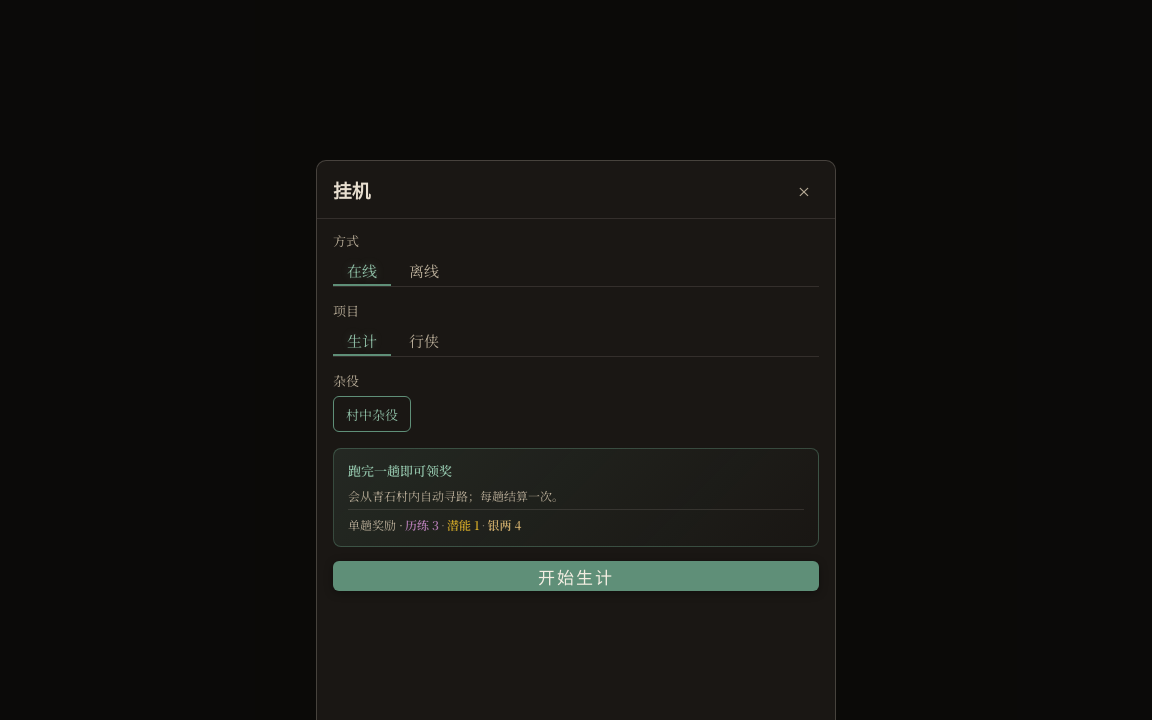
Scenario: AfkSheet（挂机启动） › 行侠：展示所选差事的单趟奖励
The image size is (1152, 720).
Click the button "行侠": (424,341) [395,326,453,356]
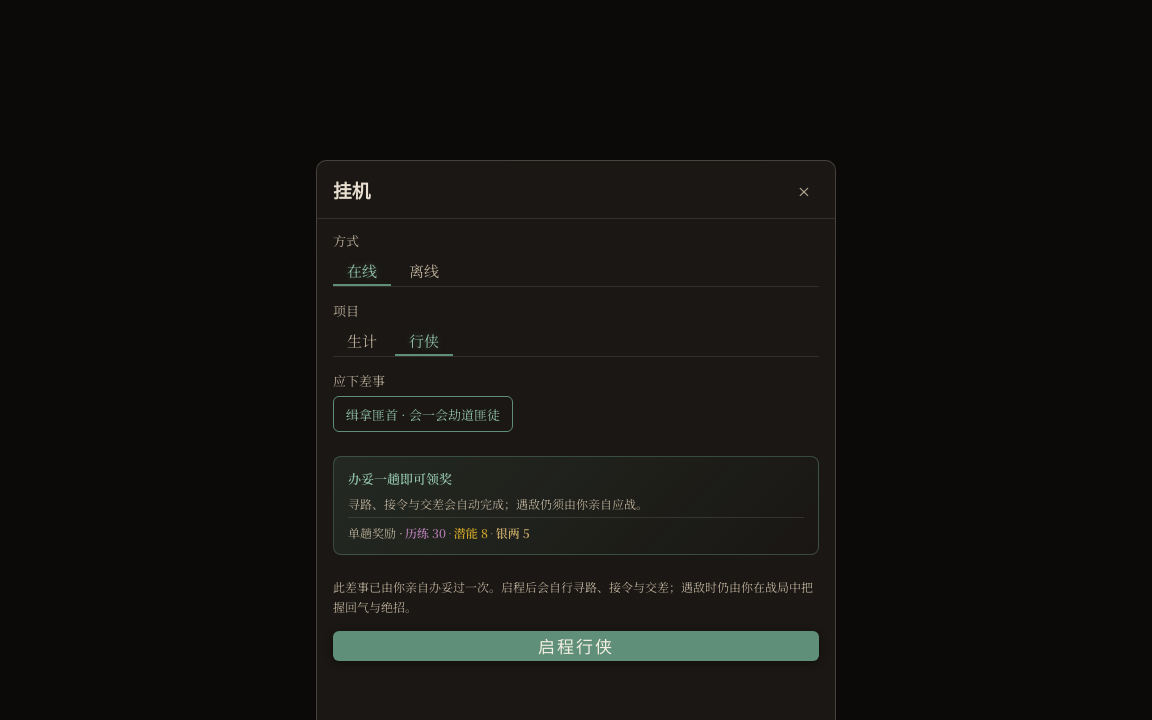
Expected: the element named "单趟奖励" shows "办妥一趟即可领奖", [348,469,452,488]
Expected: the element named "单趟奖励" shows "历练 30", [333,456,819,555]
Expected: the element named "单趟奖励" shows "潜能 8", [333,456,819,555]
